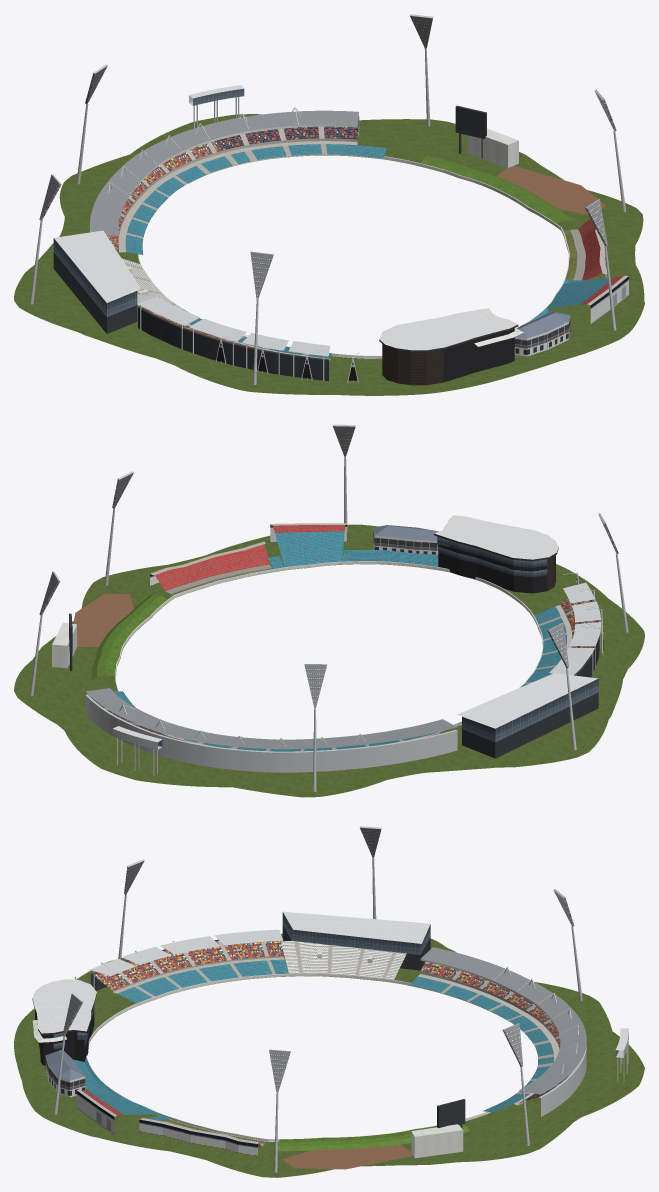
File: manuka.glb
3 renders of one model, top to bottom at view 1: azimuth 30°, elevation 25°; view 2: azimuth 150°, elevation 25°; view 3: azimuth 270°, elevation 25°, orthographic. The views are drawn at different scales.
Parts seen in each view (by area): view 1: site, n_roof, w_back, b_roof, s_bld_roof, s_bld_mc_ebony, forecourt, s_bld_mc_fins, n_conc, hill, b_under, fence (+14 smaller); view 2: site, n_back, n_roof, s_bld_mc_field, b_roof, s_bld_roof, b_under, se_seats, sign_seats, forecourt, hill, b_box (+11 smaller); view 3: site, n_roof, b_roof, s_bld_roof, forecourt, fence, hill, b_box, se_bld, scoreboard, n_conc, n_back (+18 smaller).
Boxes of the visible parts, x1,y1,x2,y2 form: site: [14, 114, 644, 395]; n_roof: [90, 110, 358, 235]; w_back: [138, 307, 328, 381]; b_roof: [54, 230, 140, 302]; s_bld_roof: [382, 309, 514, 348]; s_bld_mc_ebony: [443, 328, 514, 382]; forecourt: [496, 165, 605, 214]; s_bld_mc_fins: [382, 344, 443, 385]; n_conc: [118, 138, 357, 252]; hill: [421, 155, 577, 222]; b_under: [53, 252, 137, 333]; fence: [138, 154, 569, 358]; site: [14, 524, 644, 797]; n_back: [85, 694, 457, 772]; n_roof: [86, 688, 457, 749]; s_bld_mc_field: [438, 540, 547, 593]; b_roof: [457, 673, 598, 728]; s_bld_roof: [439, 516, 555, 558]; b_under: [462, 689, 598, 758]; se_seats: [155, 544, 269, 591]; sign_seats: [275, 531, 344, 567]; forecourt: [73, 594, 133, 646]; hill: [91, 594, 167, 679]; b_box: [462, 678, 598, 742]; site: [14, 933, 644, 1177]; n_roof: [421, 947, 586, 1094]; b_roof: [283, 911, 430, 943]; s_bld_roof: [35, 980, 94, 1032]; forecourt: [282, 1145, 412, 1169]; fence: [86, 973, 490, 1141]; hill: [277, 1124, 469, 1151]; b_box: [282, 912, 430, 954]; se_bld: [139, 1119, 257, 1155]; scoreboard: [411, 1124, 463, 1158]; n_conc: [418, 971, 559, 1105]; n_back: [539, 1046, 586, 1116].
Size of the model in its own units: 229 by 46.85 by 239.
Materials: 29 (29 with a texture image).
